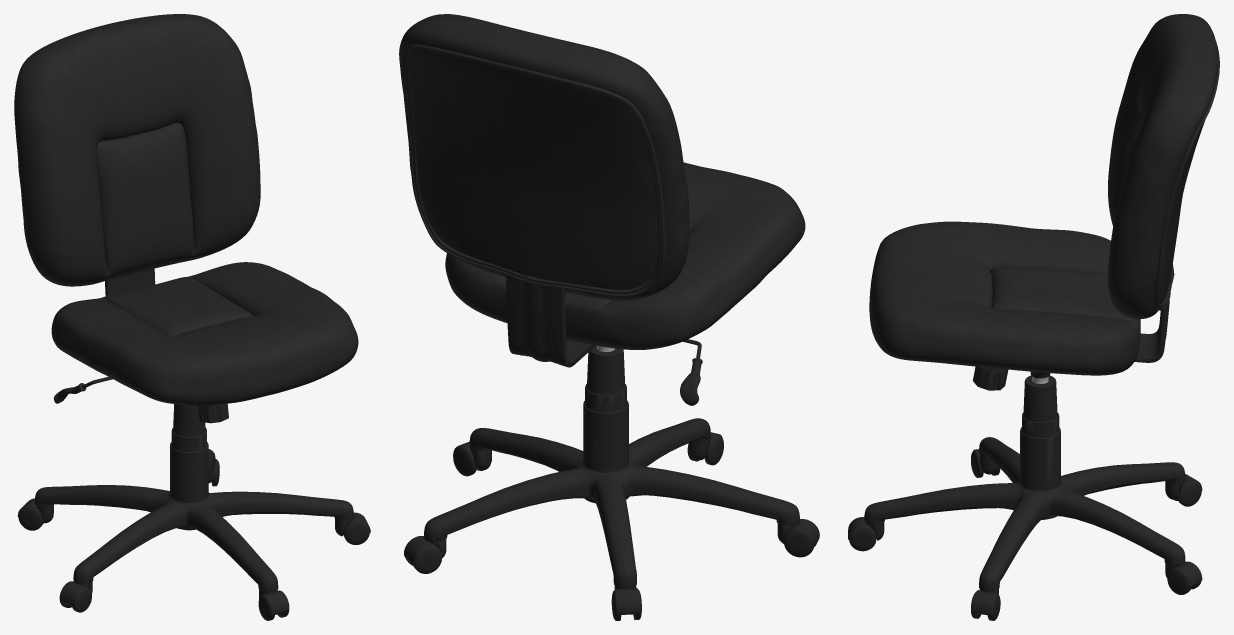
Rendered from B00XBC3J84.glb.
3 views of the same model, side by side, from view 1: azimuth 30°, elevation 25°; view 2: azimuth 150°, elevation 25°; view 3: azimuth 270°, elevation 25° (orthographic). The views are drawn at different scales.
Visible parts, largest first — view 1: RootNode; view 2: RootNode; view 3: RootNode.
Part boxes in pixels (left/top/right/bottom): RootNode: left=14, top=14, right=370, bottom=620; RootNode: left=399, top=14, right=819, bottom=620; RootNode: left=848, top=14, right=1219, bottom=620.
Size of the model in its own units: 0.6474 by 0.9591 by 0.6464.
Materials: 1 (1 with a texture image).
